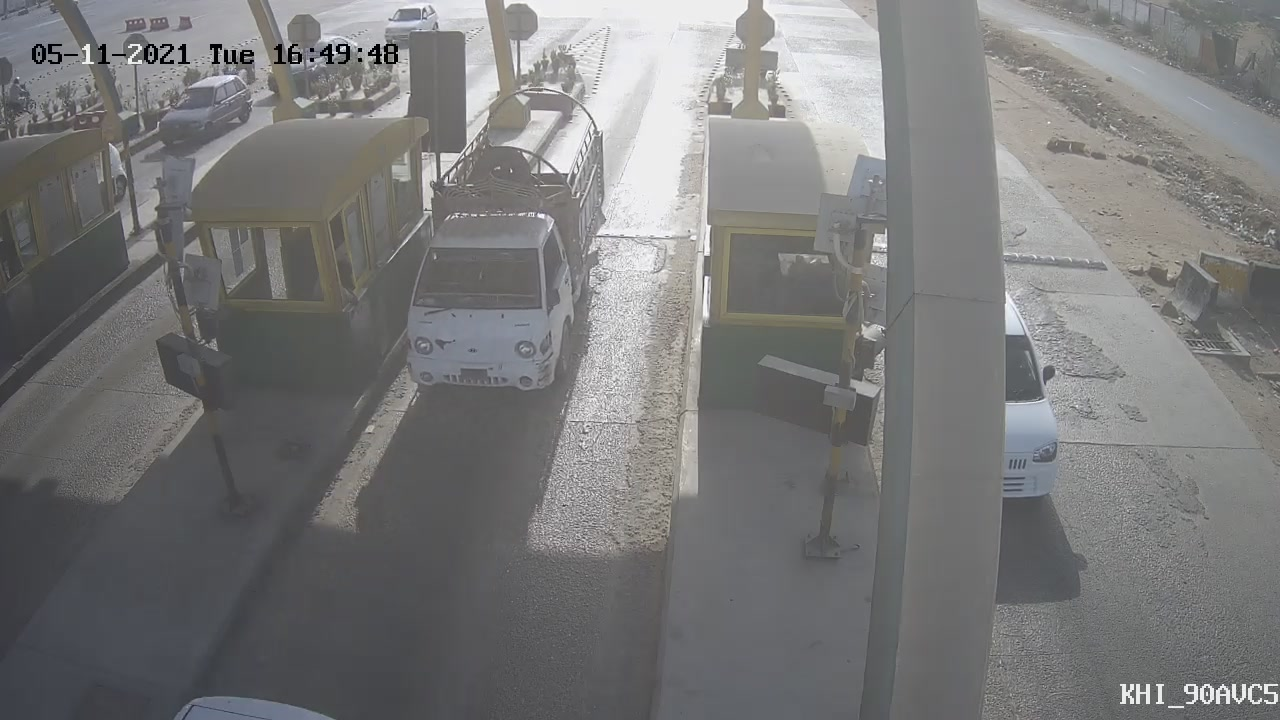F2: (377, 72, 620, 420)
